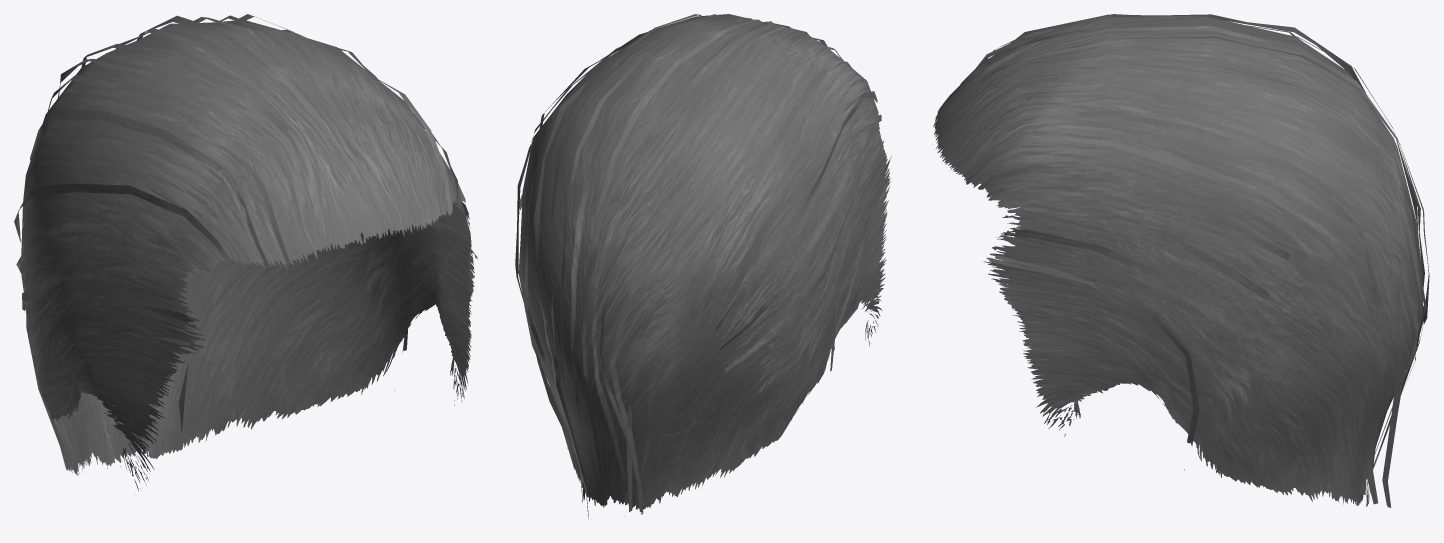
Rendered from short04.glb.
3 views of the same model, side by side, from view 1: azimuth 30°, elevation 25°; view 2: azimuth 150°, elevation 25°; view 3: azimuth 270°, elevation 25° (orthographic). The views are drawn at different scales.
Parts seen in each view (by area): view 1: editor_short04; view 2: editor_short04; view 3: editor_short04.
Boxes of the visible parts, x1,y1,x2,y2 form: editor_short04: (14, 14, 477, 491); editor_short04: (515, 14, 891, 518); editor_short04: (932, 14, 1429, 507).
Size of the model in its own units: 0.1552 by 0.206 by 0.1964.
Materials: 1 (1 with a texture image).
